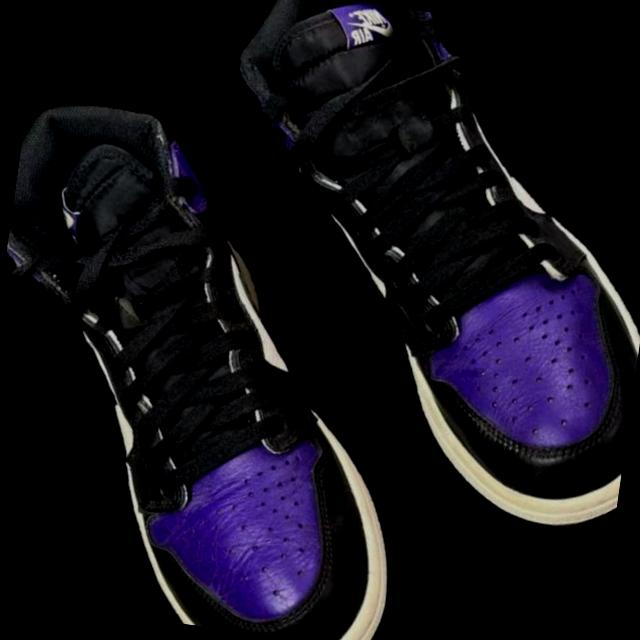nike_original_jordan: (0, 45, 525, 640), (123, 0, 640, 592)
